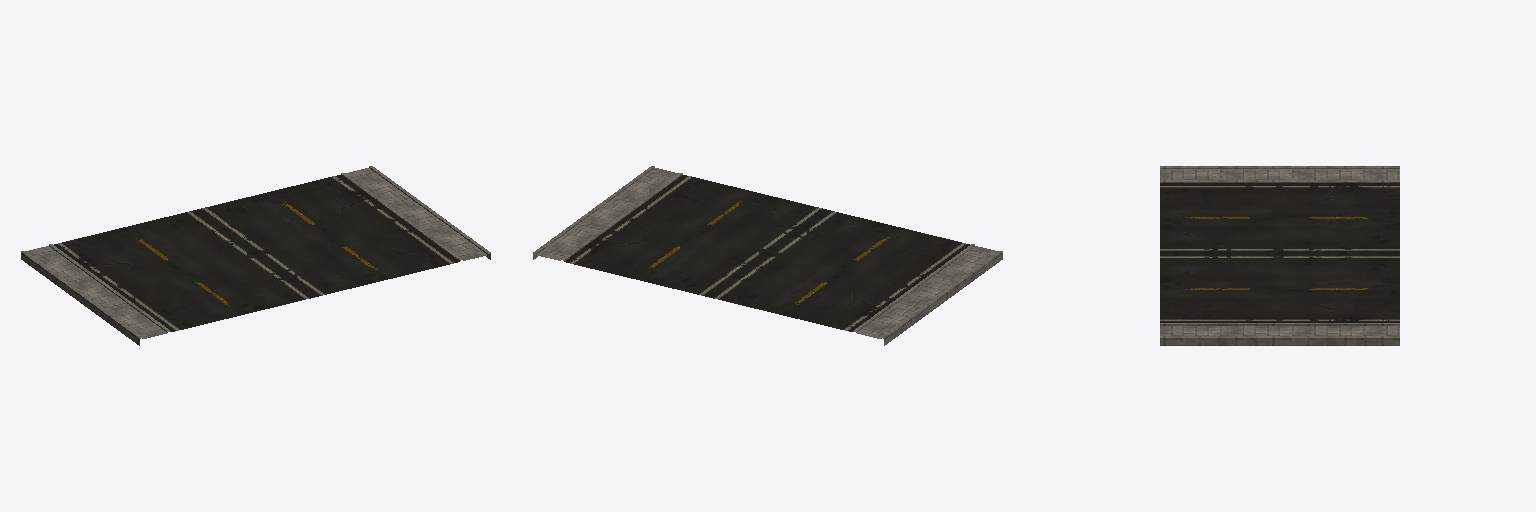
The picture shows the model from 3 angles: view 1: azimuth 30°, elevation 25°; view 2: azimuth 150°, elevation 25°; view 3: azimuth 270°, elevation 25°; orthographic projection.
Parts seen in each view (by area): view 1: 7_Road-Streight-Double-A; view 2: 7_Road-Streight-Double-A; view 3: 7_Road-Streight-Double-A.
Part boxes in pixels (bbox=[...]): 7_Road-Streight-Double-A: bbox=[21, 166, 490, 345]; 7_Road-Streight-Double-A: bbox=[533, 166, 1002, 345]; 7_Road-Streight-Double-A: bbox=[1160, 166, 1399, 345].
Bounding box in the file's own units: 1.05 × 0.0219 × 0.6196.
1 materials, 1 textured.